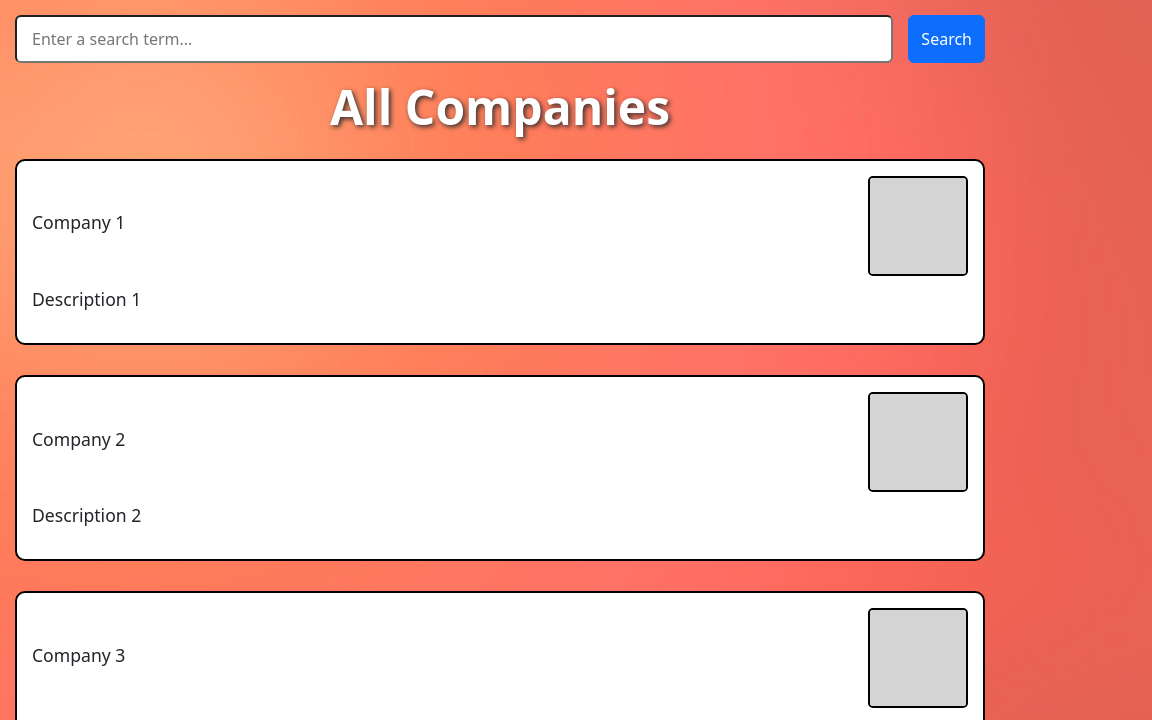
Scenario: Different Rendered Condition Tests › renders an unsuccessful search result
Type "Test Fail" into the field with test id "search-bar-input" at (454, 39), box [15,15,893,63]
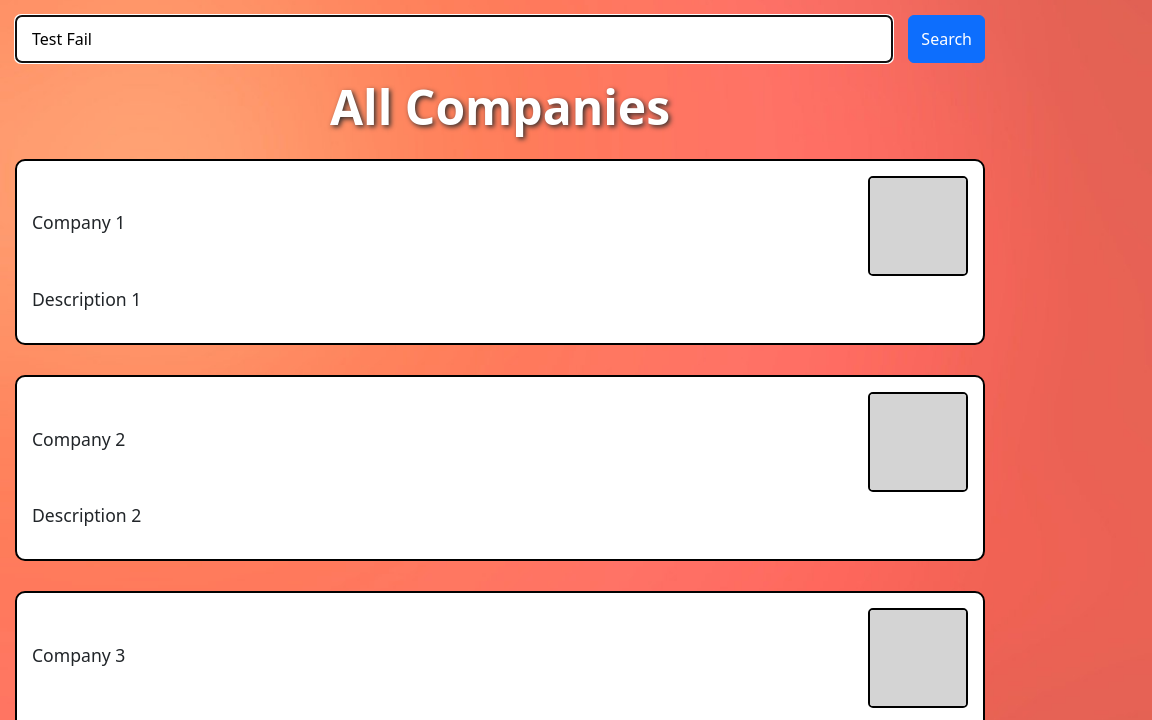
Click the button with test id "search-bar-submit" at (947, 39), box [908,15,985,63]
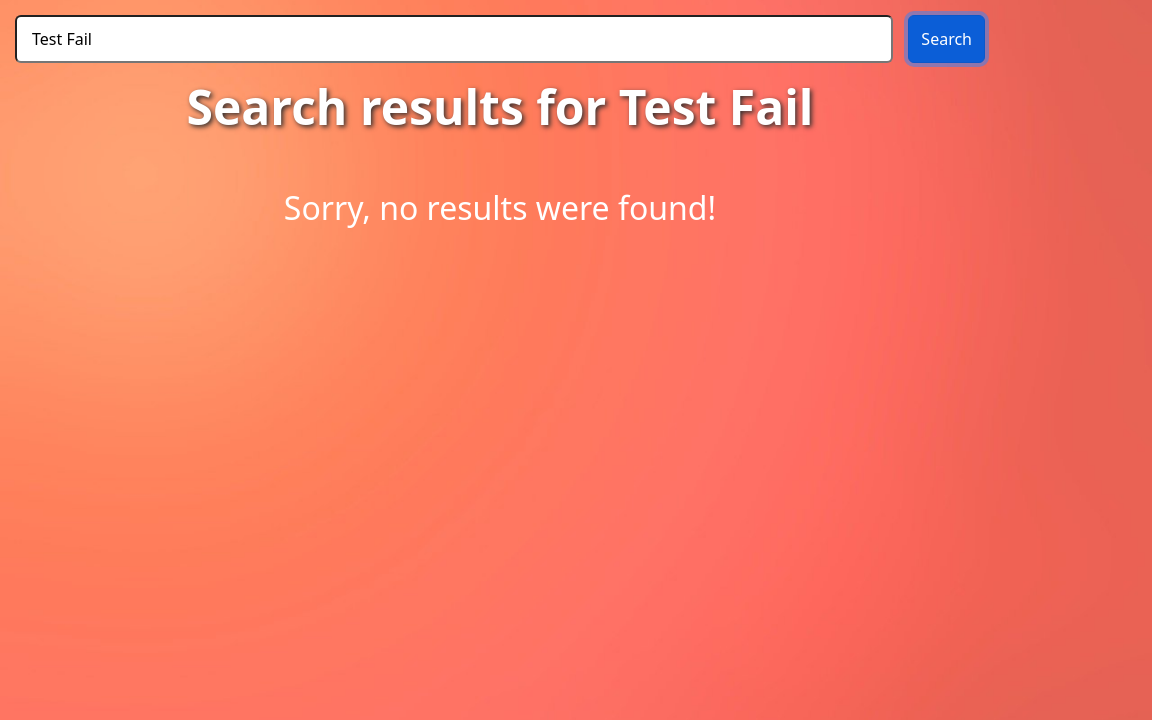
Expected: the text "Sorry, no results were found!" is shown, [284,186,716,229]
